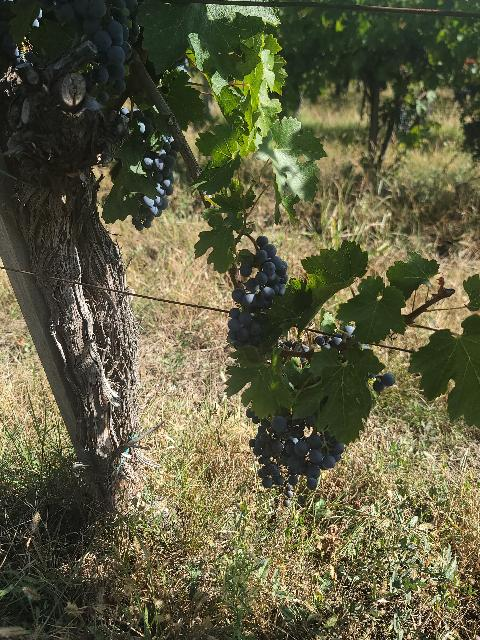grapes: (246, 409, 345, 498), (228, 235, 289, 348), (132, 141, 176, 230)
